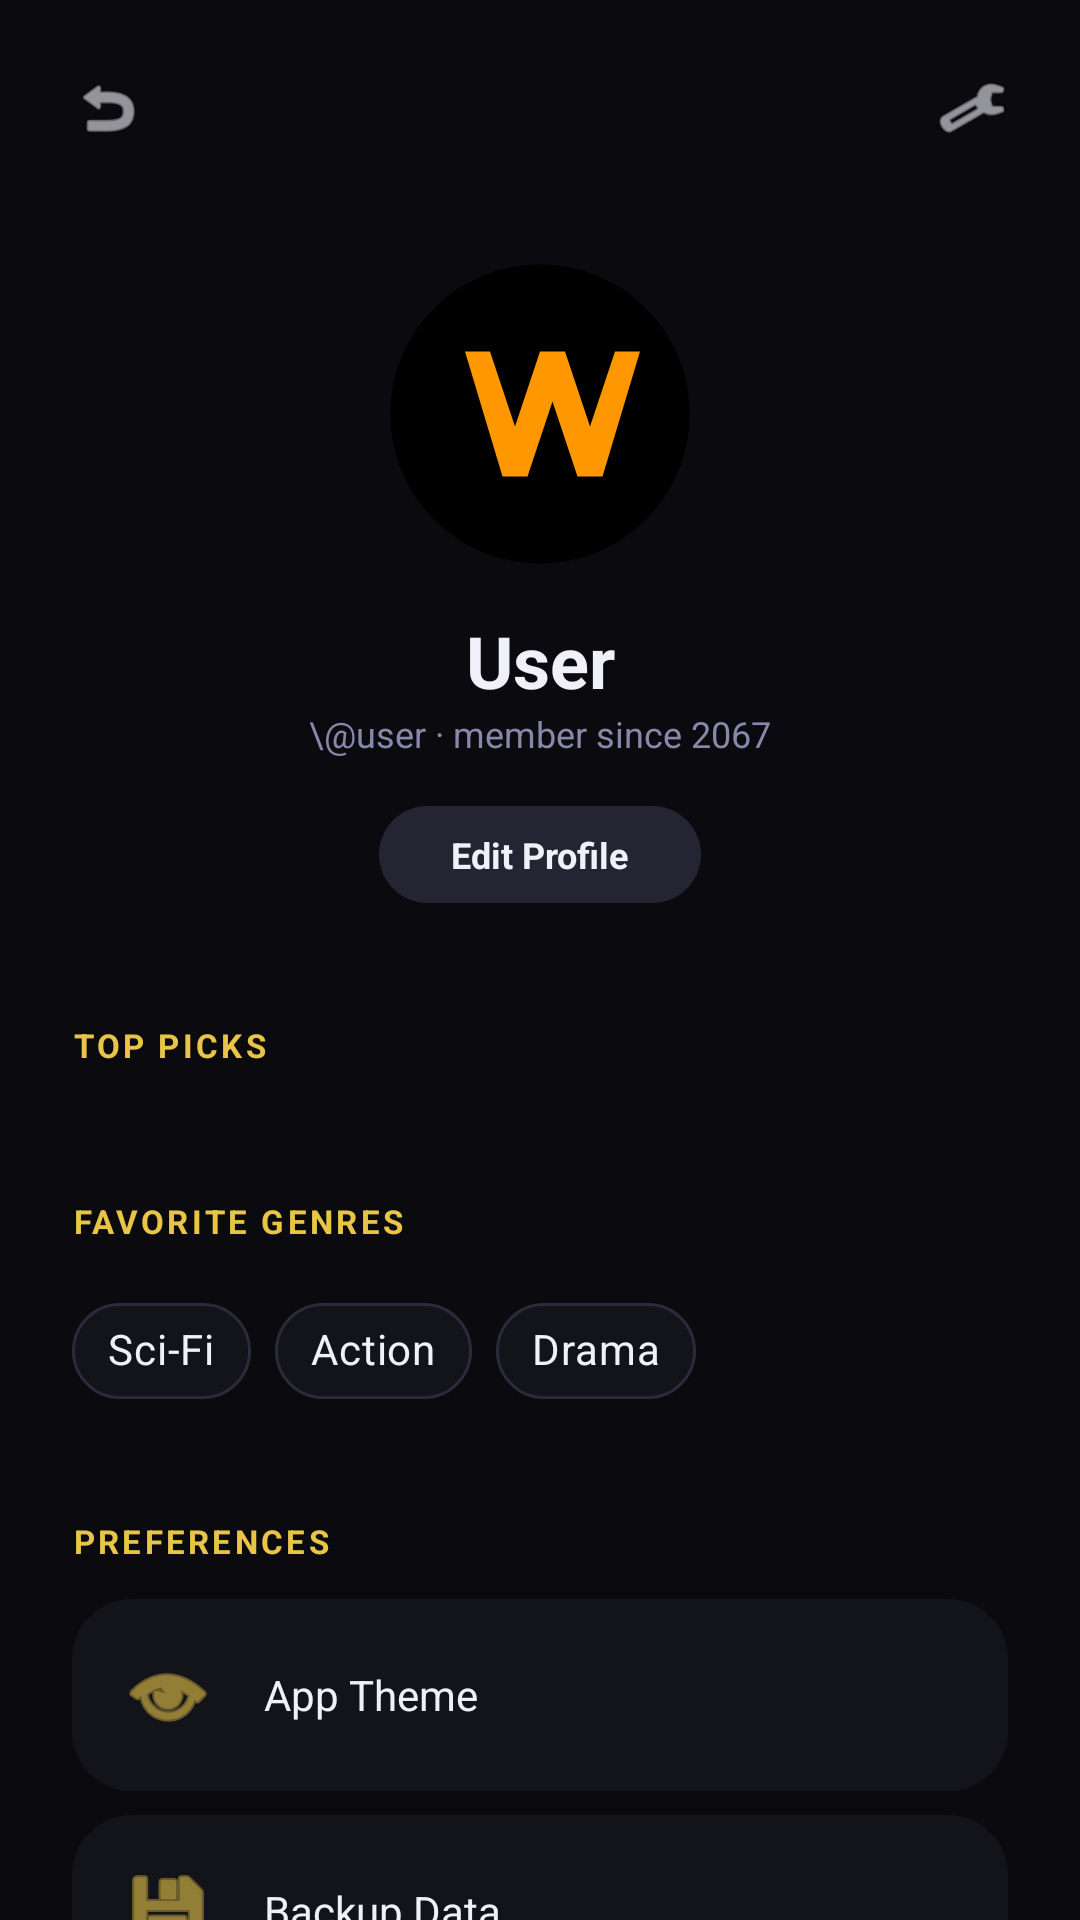

Icon click points for this 1080x1920 phone screenshot, format [x,y]:
Back: [109,108]
Settings: [971,108]
